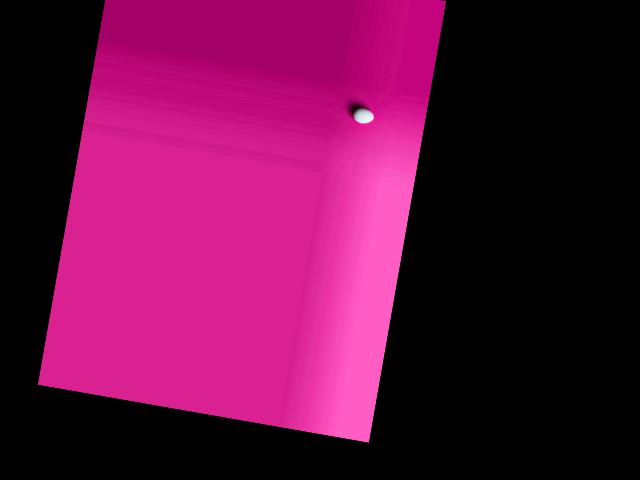egg: (351, 107, 374, 125)
